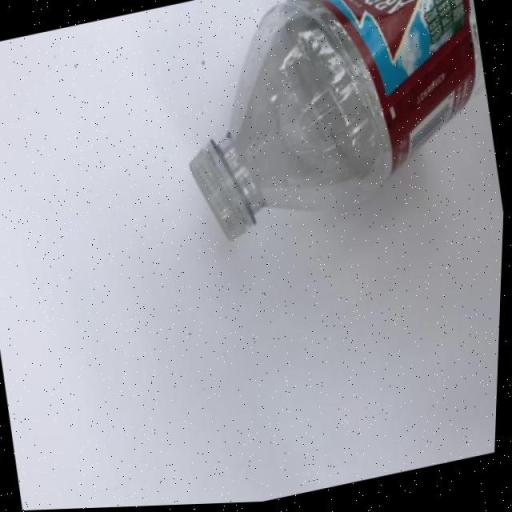plastic: (158, 0, 505, 250)
